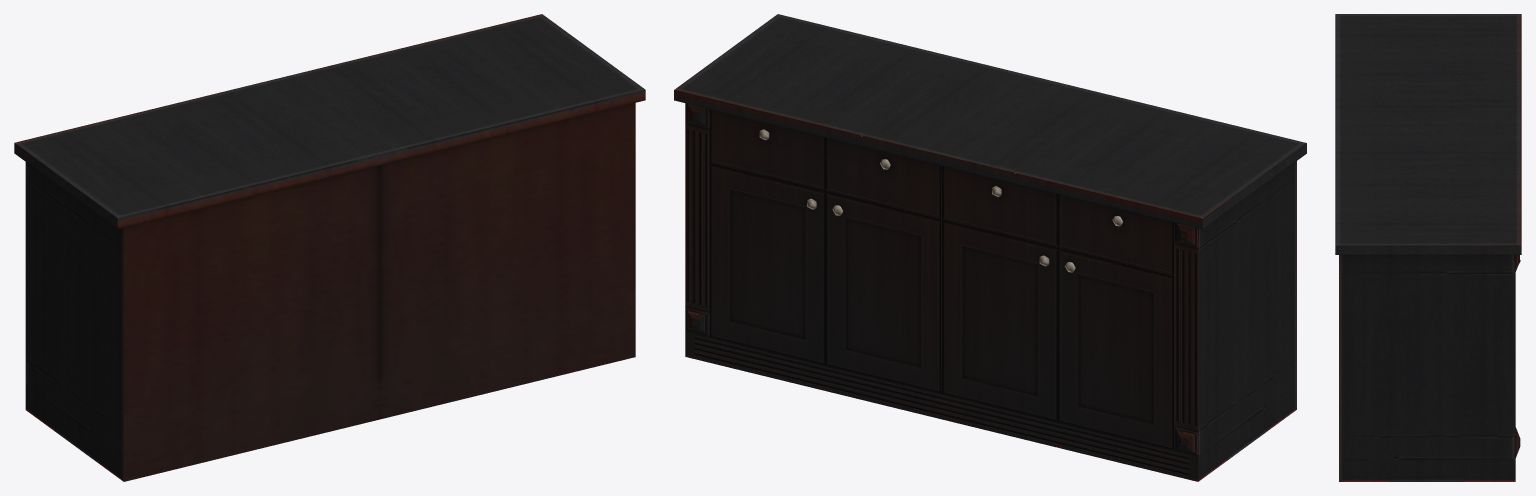
File: Desk01.FBX
The picture shows the model from 3 angles, left to right: view 1: azimuth 30°, elevation 25°; view 2: azimuth 150°, elevation 25°; view 3: azimuth 270°, elevation 25°; orthographic projection. The views are drawn at different scales.
Parts seen in each view (by area): view 1: Desk01; view 2: Desk01; view 3: Desk01.
Boxes of the visible parts, x1,y1,x2,y2 form: Desk01: (14, 14, 645, 481); Desk01: (674, 14, 1306, 481); Desk01: (1335, 14, 1521, 481).
Size of the model in its own units: 313 by 151 by 106.
